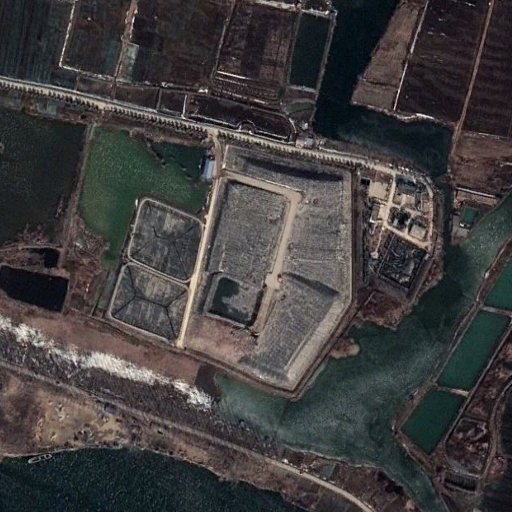lf: (184, 143, 354, 398)
